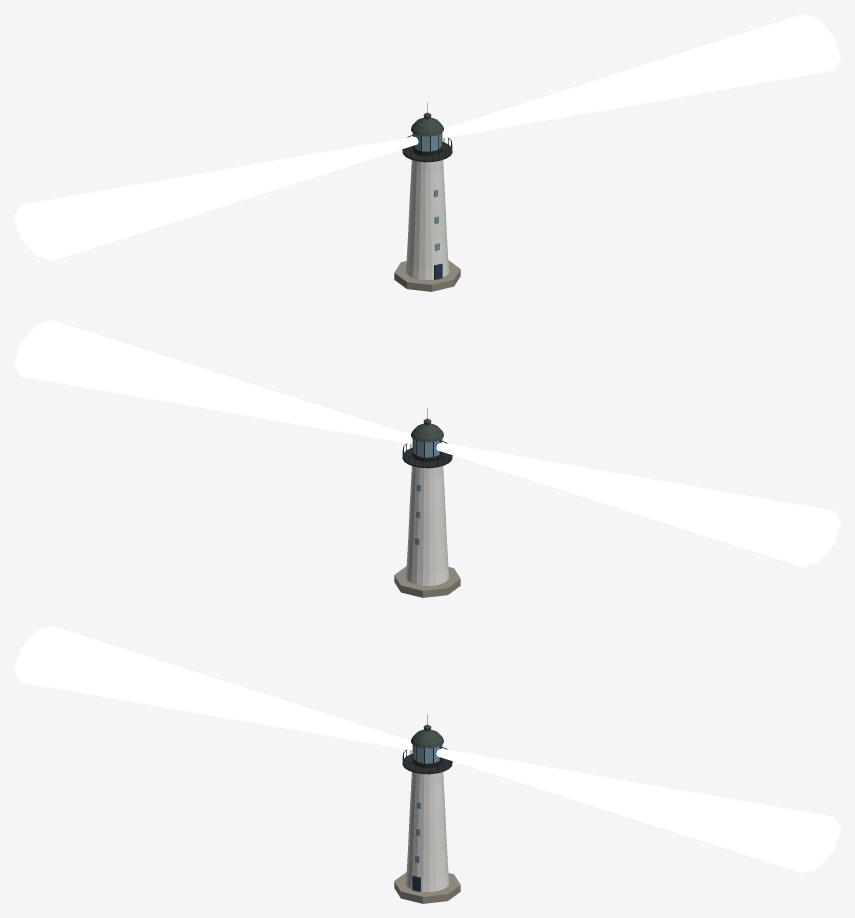
Rendered from lighthouse.glb.
3 views of the same model, one above another, from view 1: azimuth 30°, elevation 25°; view 2: azimuth 150°, elevation 25°; view 3: azimuth 330°, elevation 25° (orthographic).
Parts seen in each view (by area): view 1: spin_beam, Lighthouse_static; view 2: spin_beam, Lighthouse_static; view 3: spin_beam, Lighthouse_static.
Part boxes in pixels (x1,y1,x2,y2): spin_beam: (14, 14, 840, 260); Lighthouse_static: (394, 102, 460, 291); spin_beam: (14, 320, 840, 566); Lighthouse_static: (394, 408, 460, 597); spin_beam: (14, 626, 840, 872); Lighthouse_static: (394, 714, 460, 903).
Size of the model in its own units: 140 by 30 by 14.
